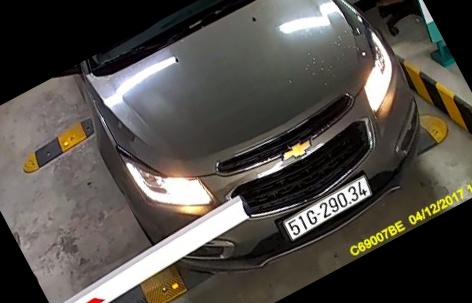plate: (279, 177, 372, 241)
